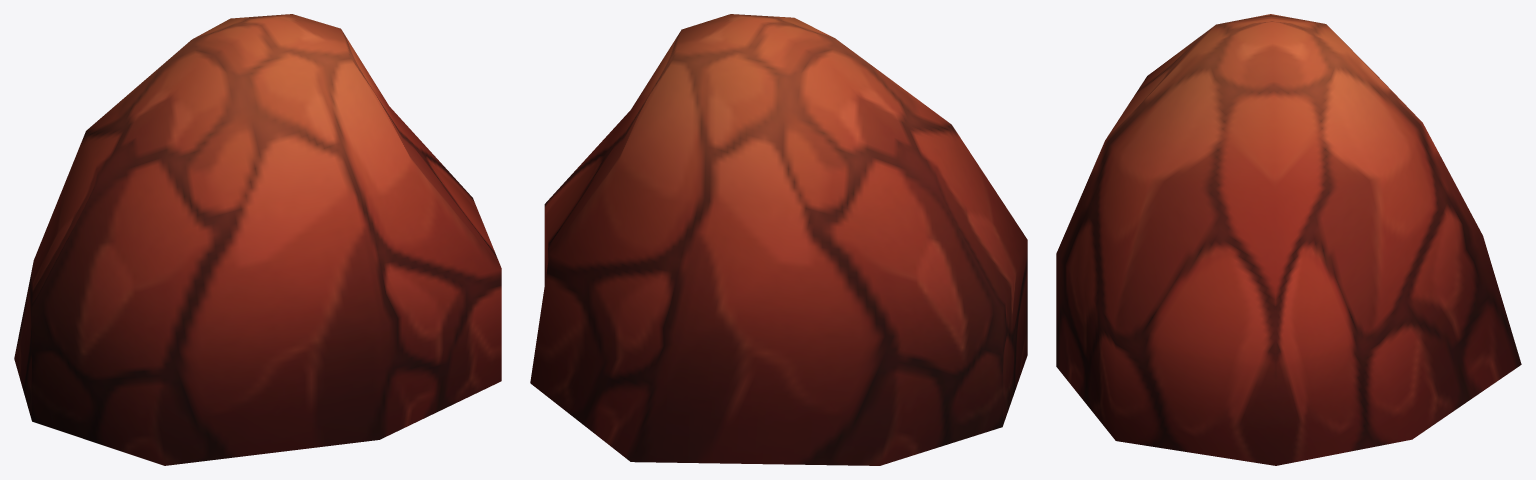
The model's file is Red_Rock_05.FBX.
3 renders of one model, left to right at view 1: azimuth 30°, elevation 25°; view 2: azimuth 150°, elevation 25°; view 3: azimuth 270°, elevation 25°, orthographic. The views are drawn at different scales.
Visible parts, largest first — view 1: Red_Rock_05; view 2: Red_Rock_05; view 3: Red_Rock_05.
Part boxes in pixels (box(x1,y1,x2,y2)): Red_Rock_05: box(14, 14, 501, 465); Red_Rock_05: box(530, 14, 1027, 465); Red_Rock_05: box(1056, 14, 1521, 465).
Bounding box in the file's own units: 77.83 × 57.13 × 70.24.
